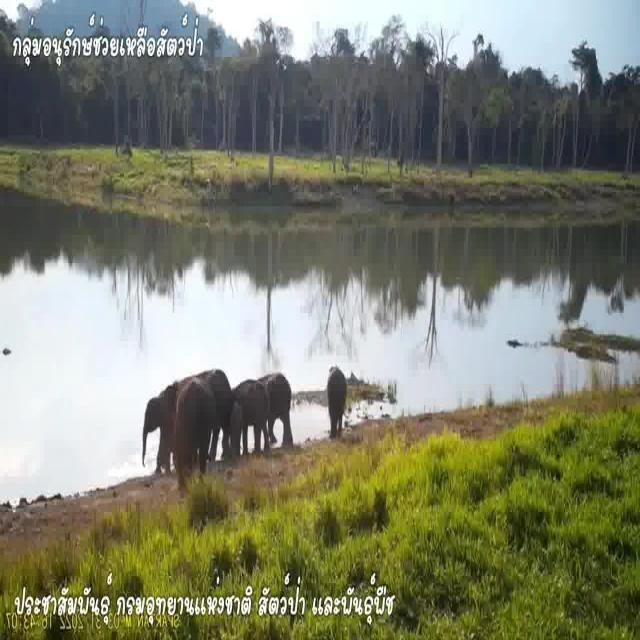Elephant: (140, 385, 178, 460), (322, 363, 348, 432)
